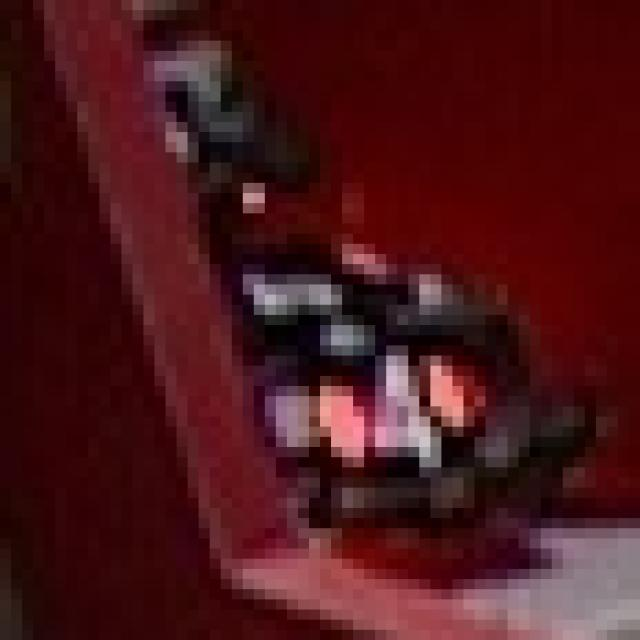R4: (309, 346, 474, 457)
